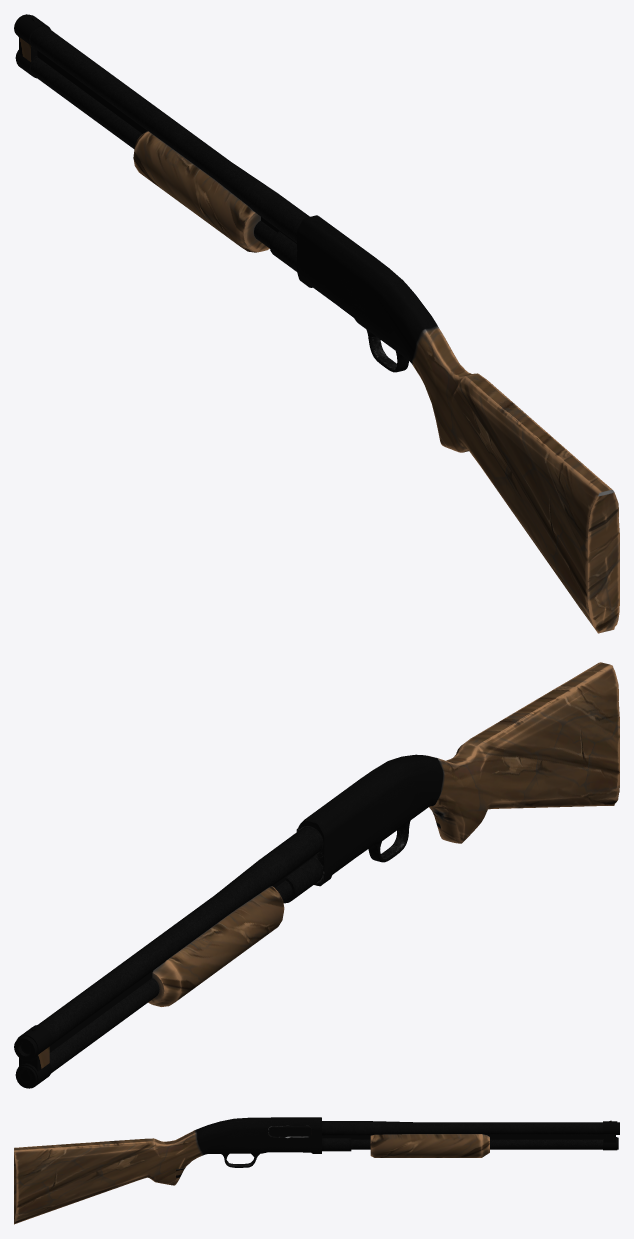
File: shotgun.fbx
3 views of the same model, one above another, from view 1: azimuth 30°, elevation 25°; view 2: azimuth 150°, elevation 25°; view 3: azimuth 270°, elevation 25° (orthographic). The views are drawn at different scales.
Visible parts, largest first — view 1: shotgun; view 2: shotgun; view 3: shotgun.
Boxes of the visible parts, x1=… form: shotgun: x1=14, y1=14, x2=619, y2=633; shotgun: x1=14, y1=662, x2=619, y2=1088; shotgun: x1=14, y1=1117, x2=619, y2=1224.
Bounding box in the file's own units: 44.16 × 175 × 930.
